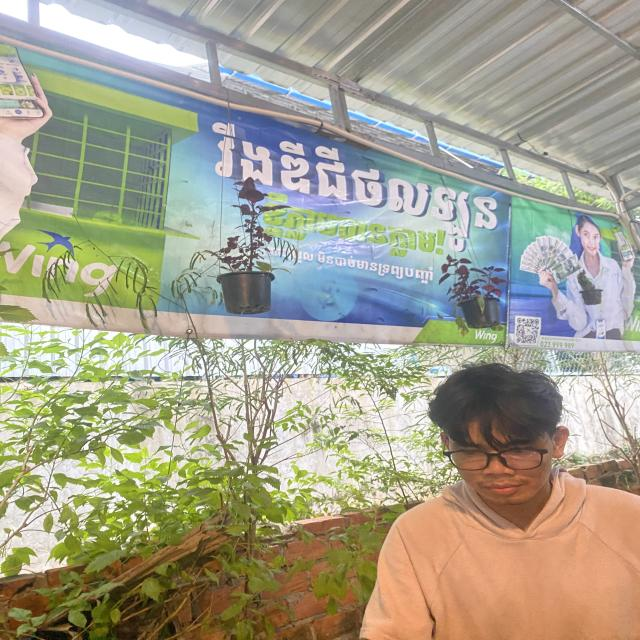334: (538, 339, 576, 351)
Yolov11_80vkh: (205, 114, 514, 262), (253, 188, 453, 266), (315, 249, 440, 286)
